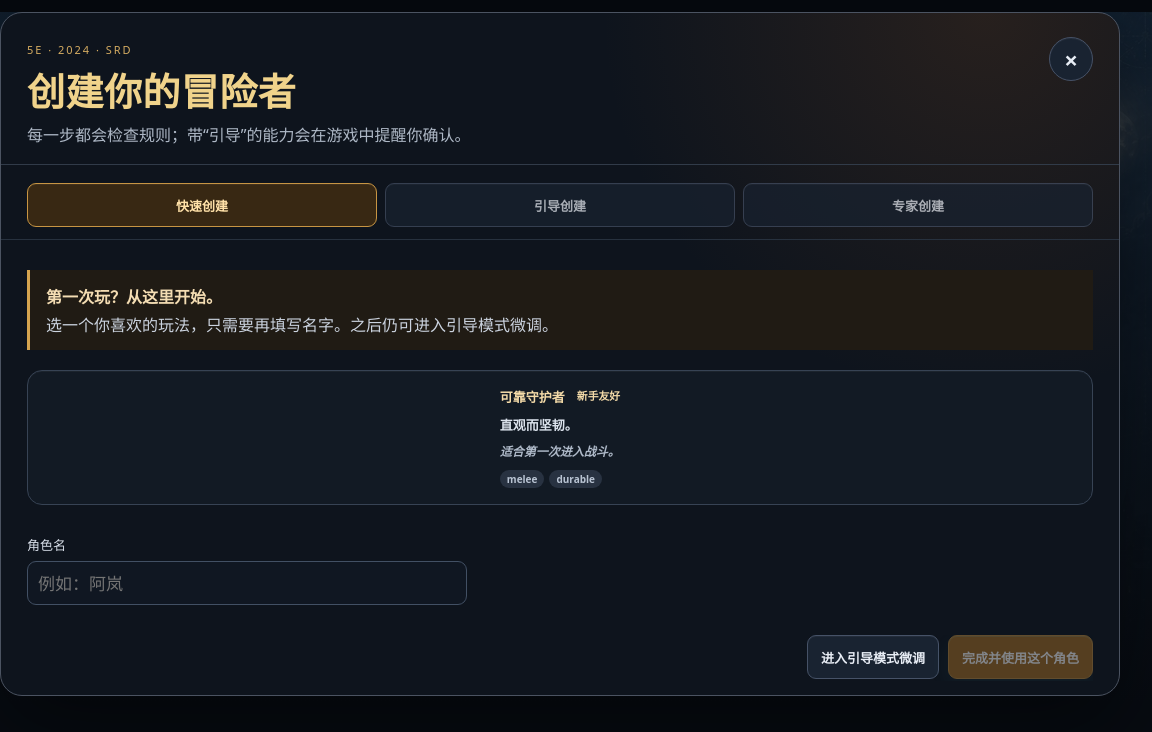
Test case: D&D 2024 ability page: point buy vs background bonuses › Test B: background bonus scope stays CON / INT / WIS
Click the button "可靠守护者 新手友好 直观而坚韧。 适合第一次进入战斗。 melee durable". click: click(532, 397)
box: [27,370,1093,505]
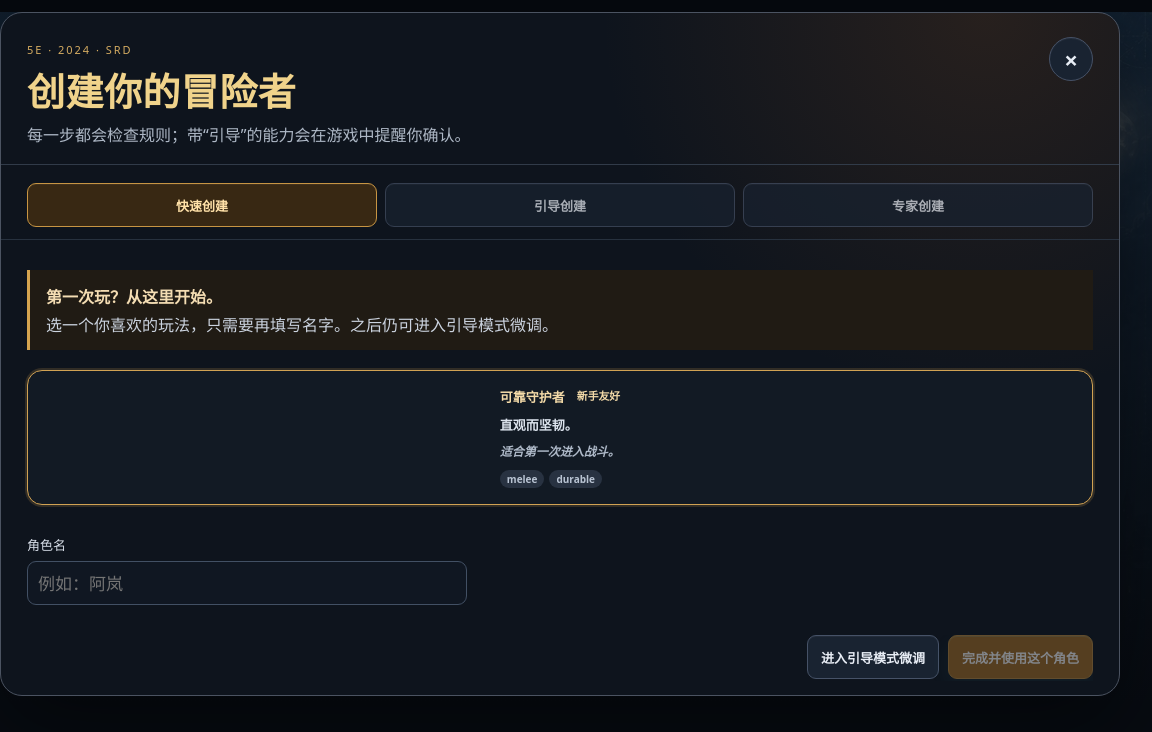
Type "阿岚" into the field labelled "角色名". click: (247, 583)
box: [27,561,467,605]
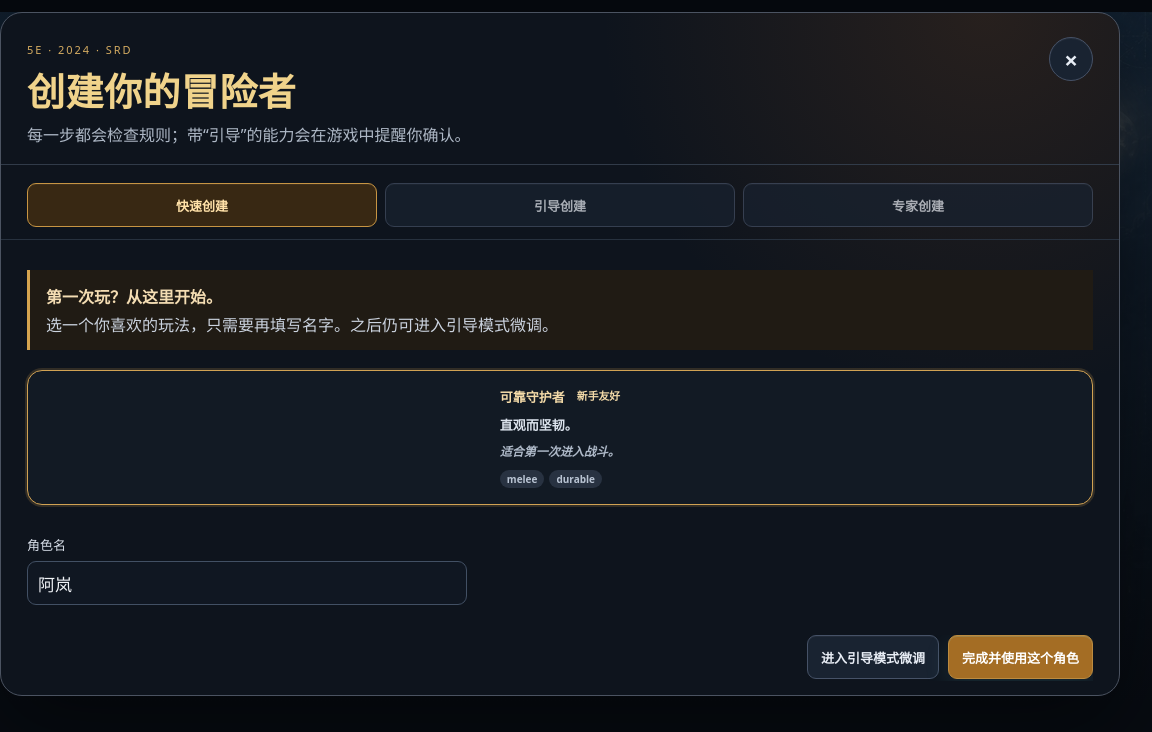
Click the tab "引导创建". click: click(560, 205)
box: [385,183,735,227]
(page scrolled)
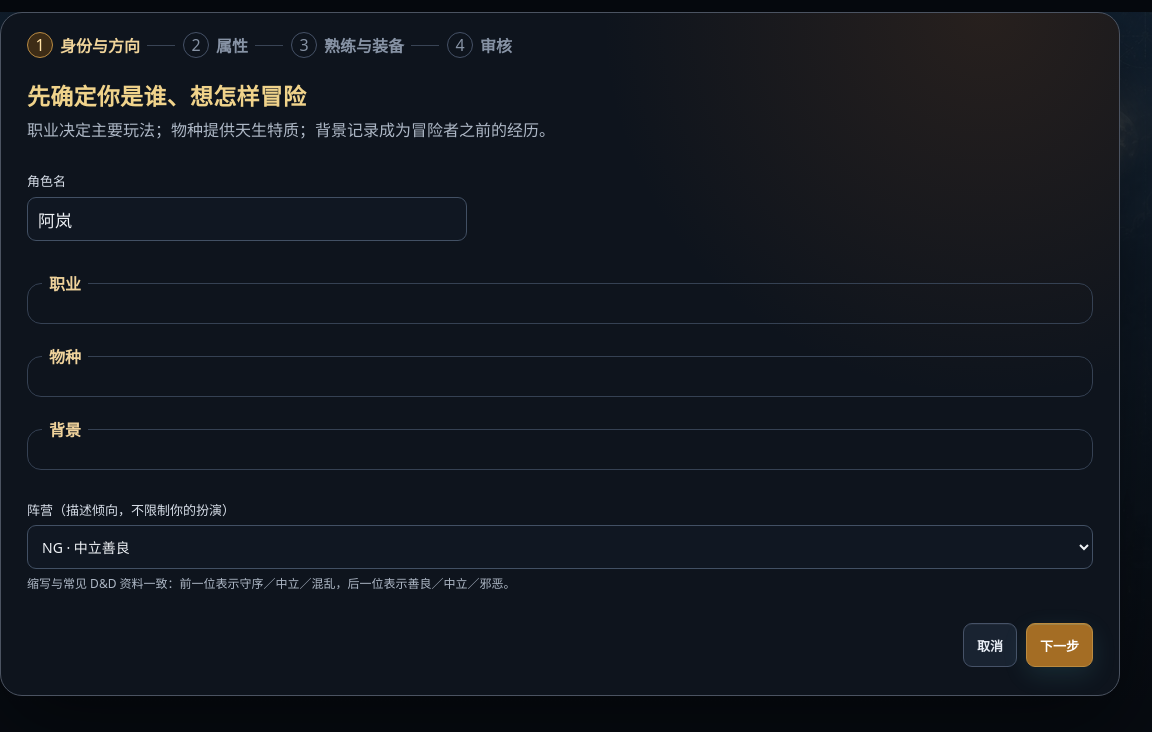
Click the button "下一步". click: click(1060, 645)
box: [1026,623,1093,667]
(page scrolled)
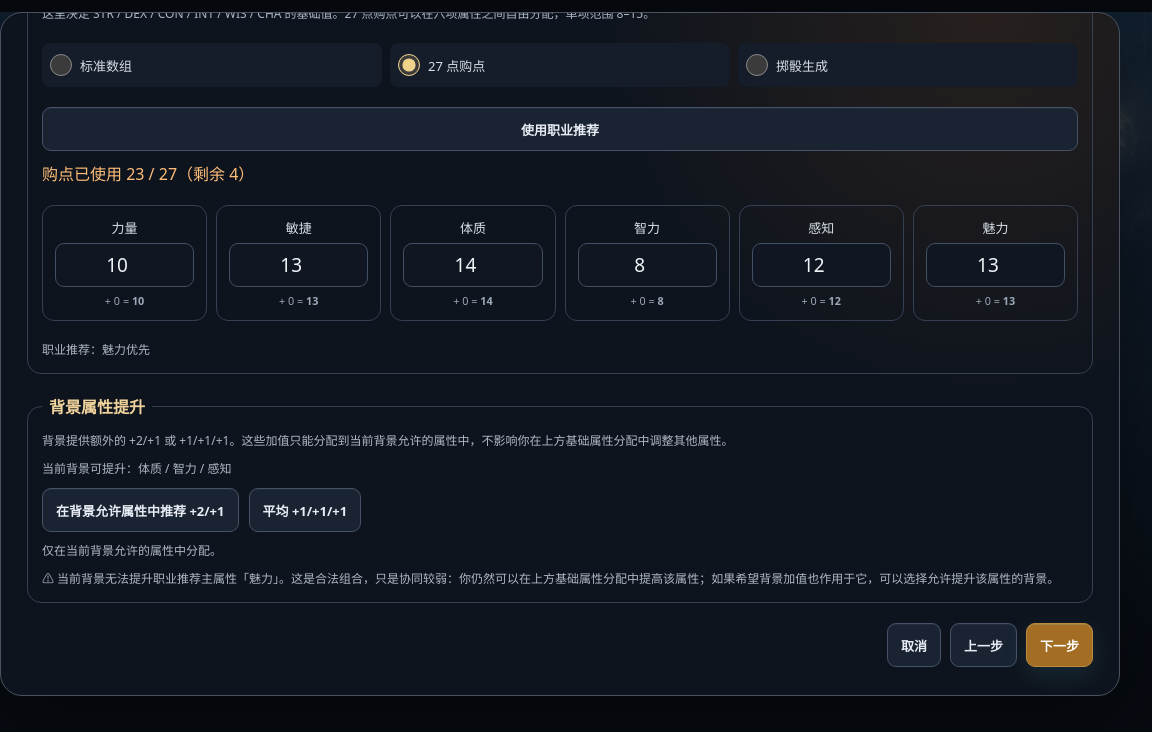
Now the element that starts with "背景属性提升" shows "当前背景可提升：体质 / 智力 / 感知", box [42,460,231,477]
